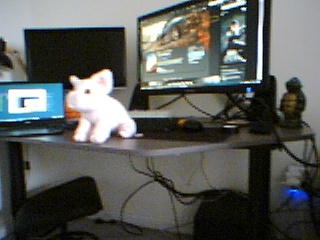piggy: (65, 67, 138, 147)
